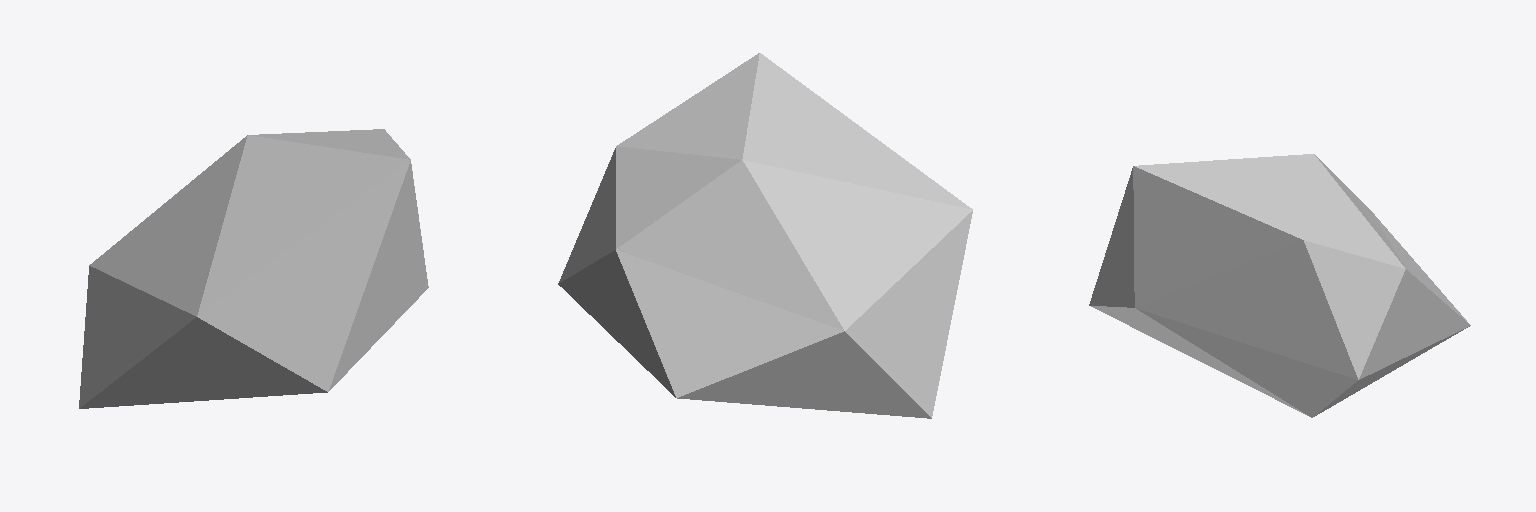
Rendered from Rock.obj.
3 views of the same model, side by side, from view 1: azimuth 30°, elevation 25°; view 2: azimuth 150°, elevation 25°; view 3: azimuth 270°, elevation 25° (orthographic).
Visible parts, largest first — view 1: Icosphere; view 2: Icosphere; view 3: Icosphere.
Part boxes in pixels (x1,y1,x2,y2): Icosphere: (79, 129, 428, 408); Icosphere: (558, 53, 972, 418); Icosphere: (1089, 154, 1470, 417).
Bounding box in the file's own units: 1.28 × 0.9344 × 1.25.